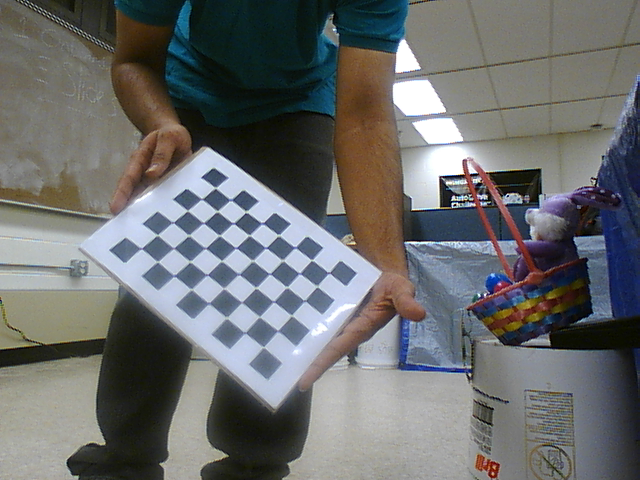bunny: (456, 155, 602, 345)
